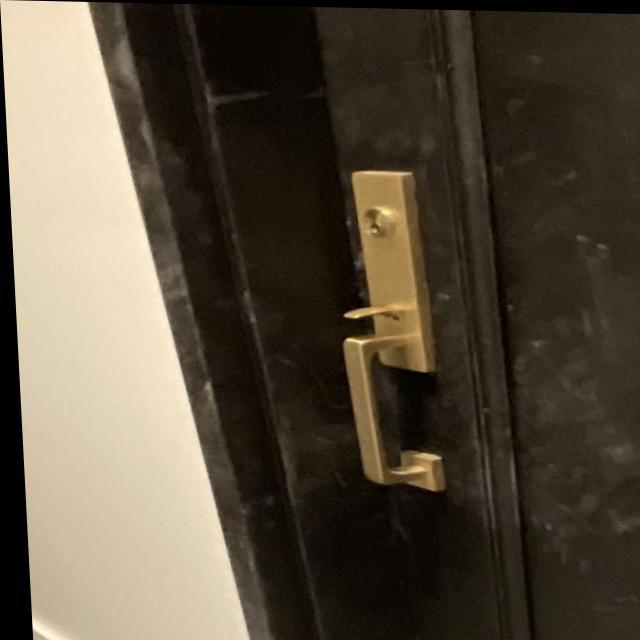door_handle: (313, 324, 465, 499)
